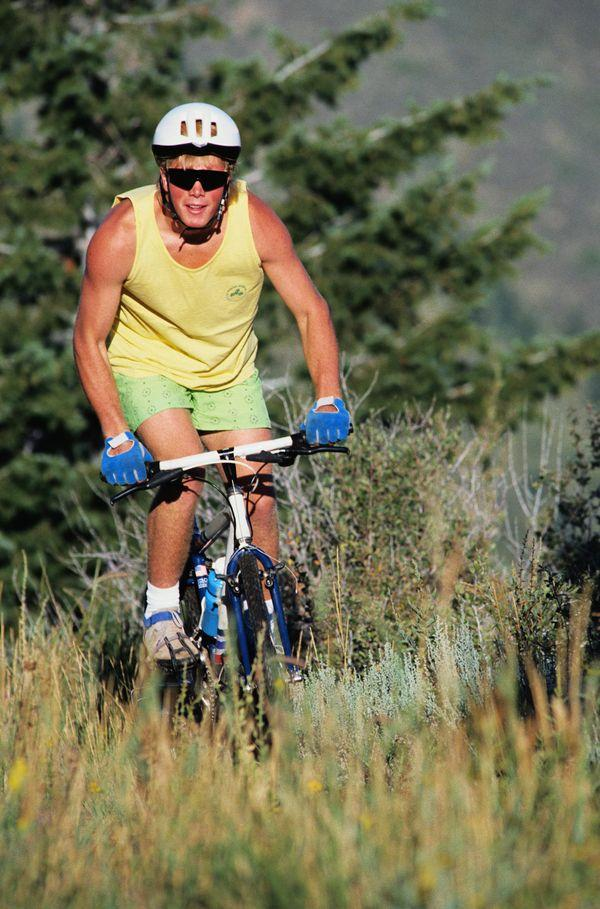person: (73, 103, 350, 669)
